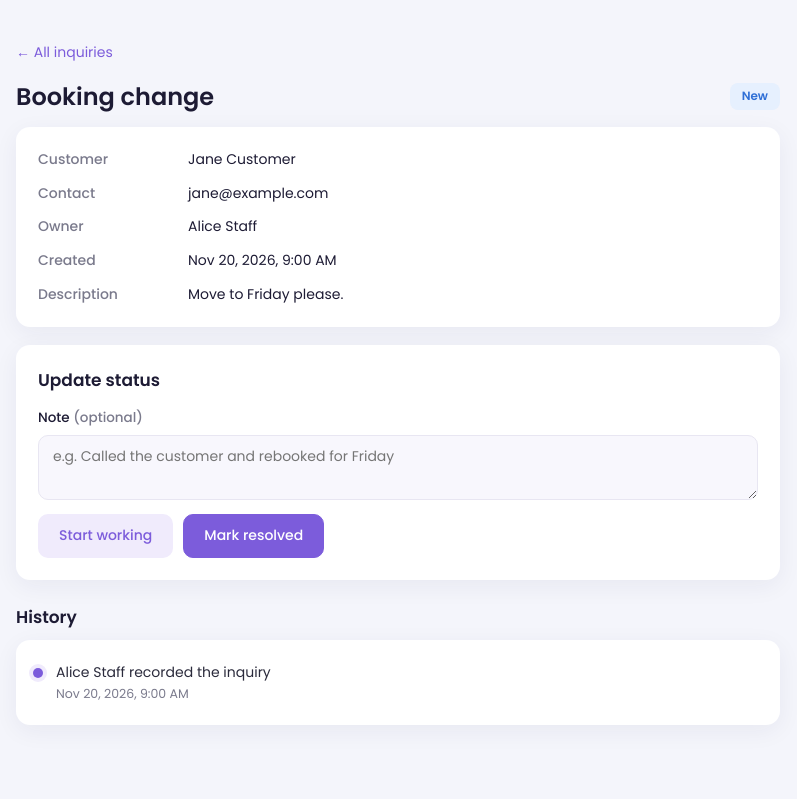
InquiryDetailPage › changes the status and shows it in the history
Type "Called back" into the text box labelled "Note (optional)" at point(398, 467), box [38,435,758,500]
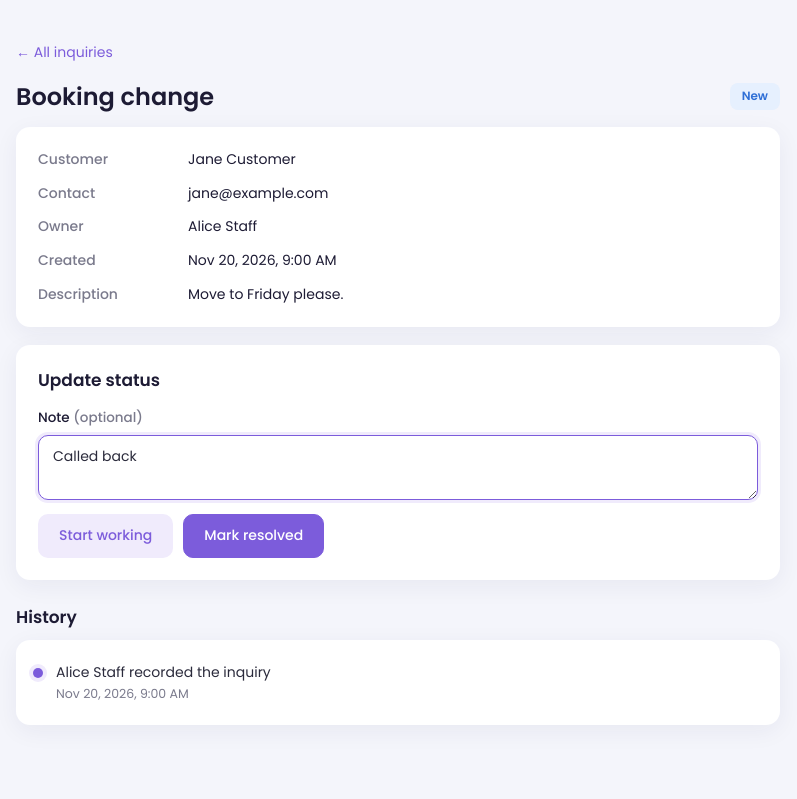
Click the button "Start working" at point(106, 536), box [38,514,173,558]
(page scrolled)
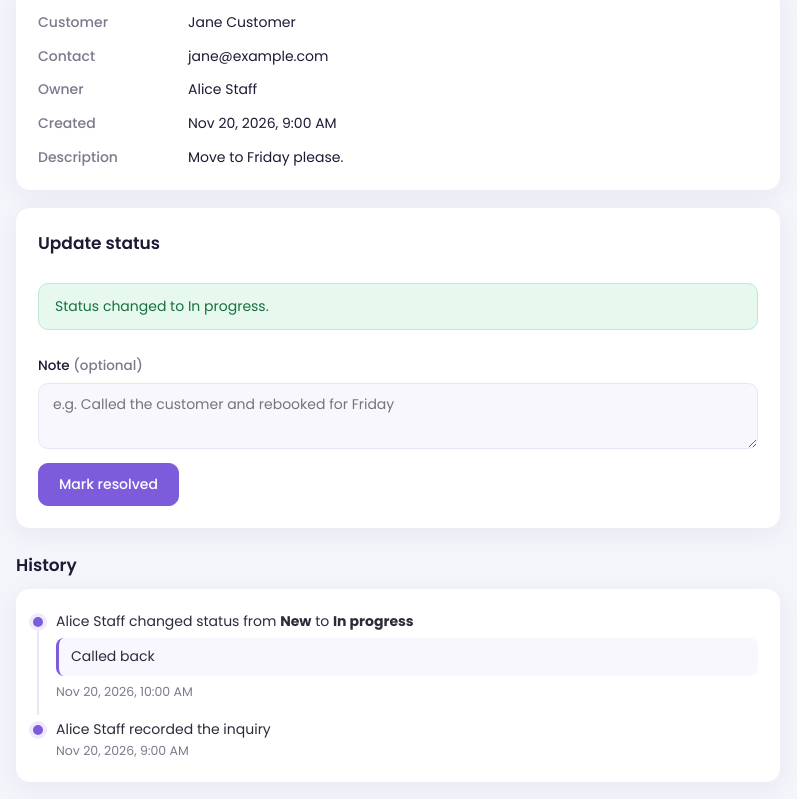
Now the text "Status changed to In progress." is shown, box [38,283,758,330]
Now the text "Called back" is shown, box [56,638,758,676]
